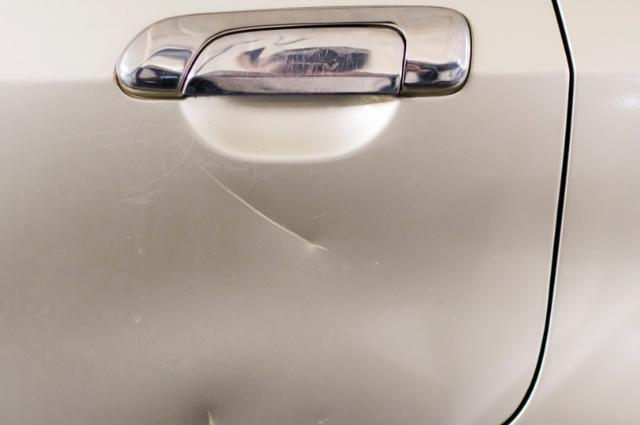Door: (101, 123, 477, 342), (106, 354, 308, 425)
